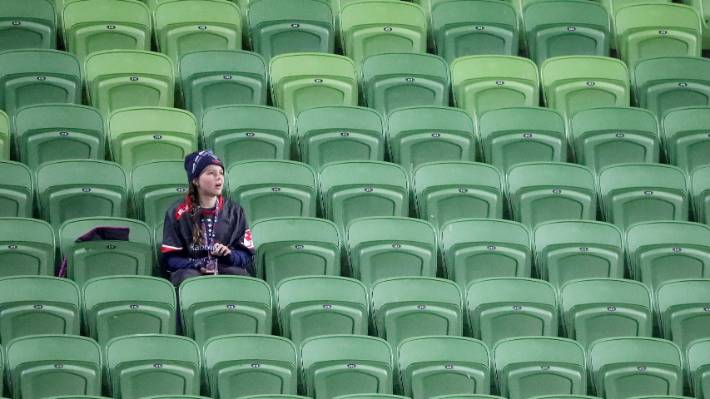Person: (157, 151, 257, 283)
